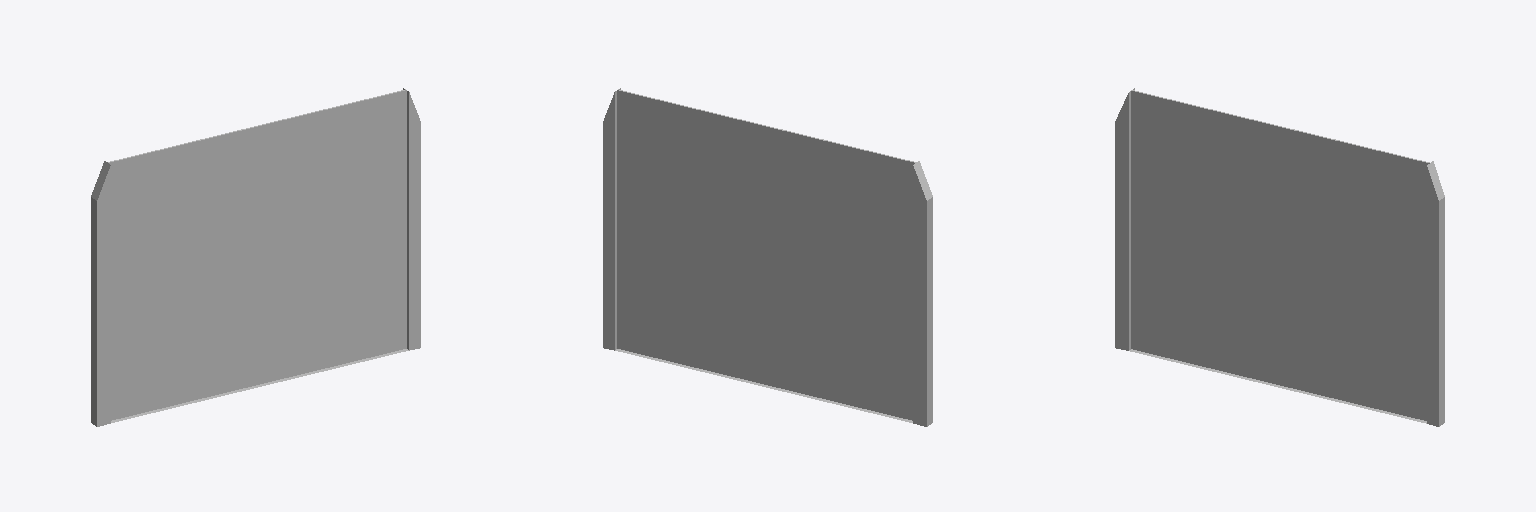
Rendered from fence.obj.
3 renders of one model, left to right at view 1: azimuth 30°, elevation 25°; view 2: azimuth 150°, elevation 25°; view 3: azimuth 330°, elevation 25°, orthographic.
Visible parts, largest first — view 1: pCube1; view 2: pCube1; view 3: pCube1.
Part boxes in pixels (bbox=[...]): pCube1: bbox=[91, 88, 420, 426]; pCube1: bbox=[603, 88, 932, 426]; pCube1: bbox=[1115, 88, 1444, 426].
Size of the model in its own units: 3 by 2.29 by 0.1.